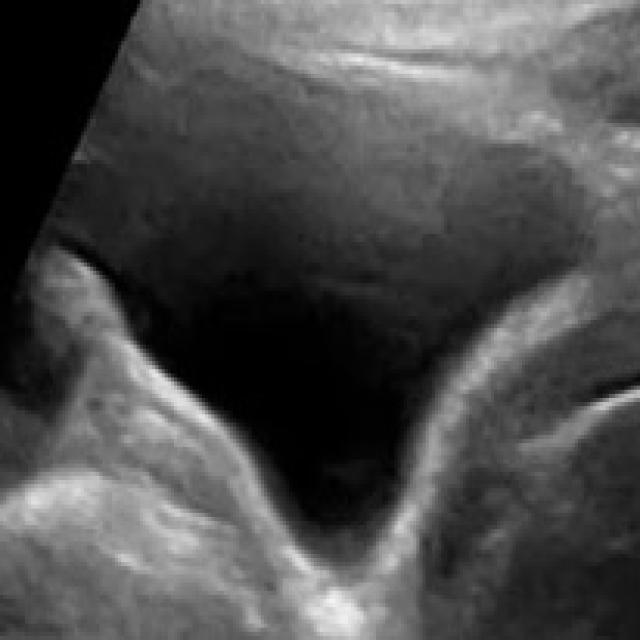bladder: (39, 14, 628, 603)
